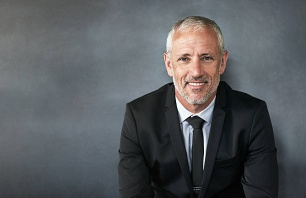male: (166, 17, 223, 105)
